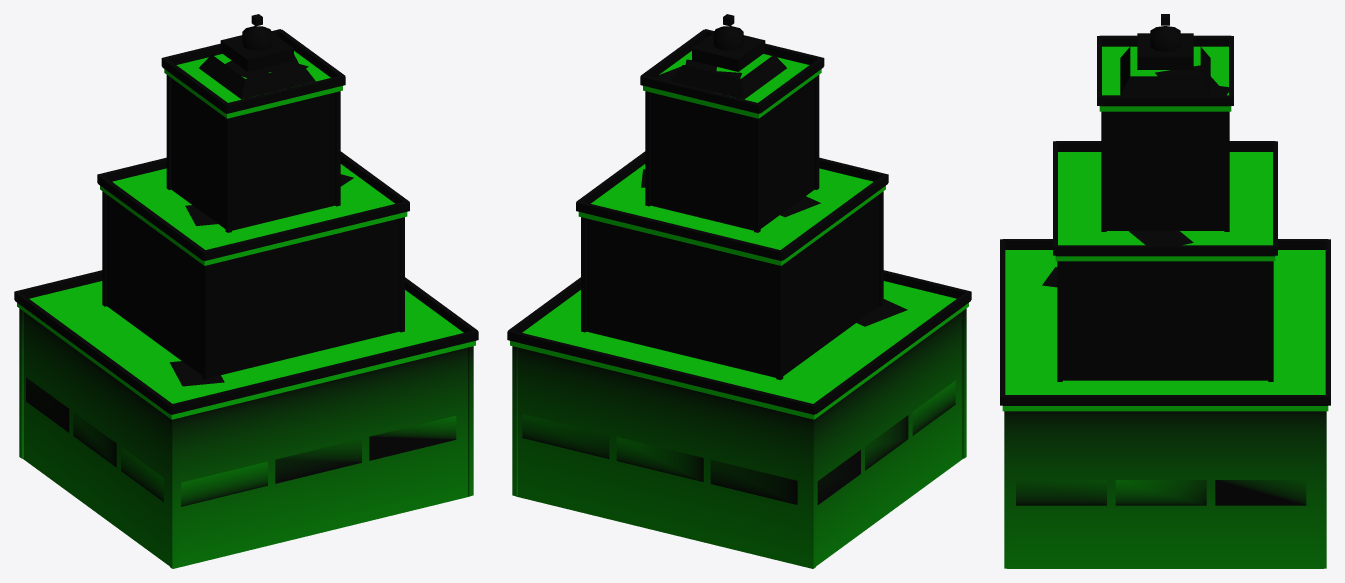
File: trafcon.glb
The picture shows the model from 3 angles, left to right: view 1: azimuth 30°, elevation 25°; view 2: azimuth 150°, elevation 25°; view 3: azimuth 270°, elevation 25°; orthographic projection. The views are drawn at different scales.
Visible parts, largest first — view 1: lod0; view 2: lod0; view 3: lod0.
Part boxes in pixels (x1,y1,x2,y2): lod0: (14,14,478,568); lod0: (507,14,971,568); lod0: (1000,14,1330,568).
Size of what is drawn, in the model's own units: 21.3 by 30.25 by 18.8.
